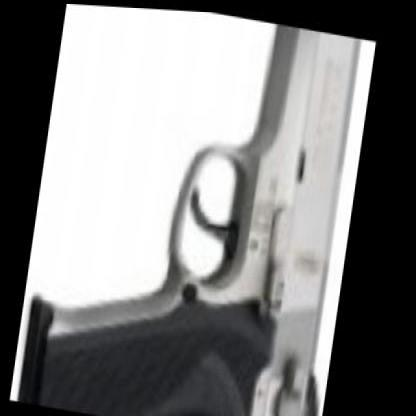pistol: (27, 1, 378, 415)
